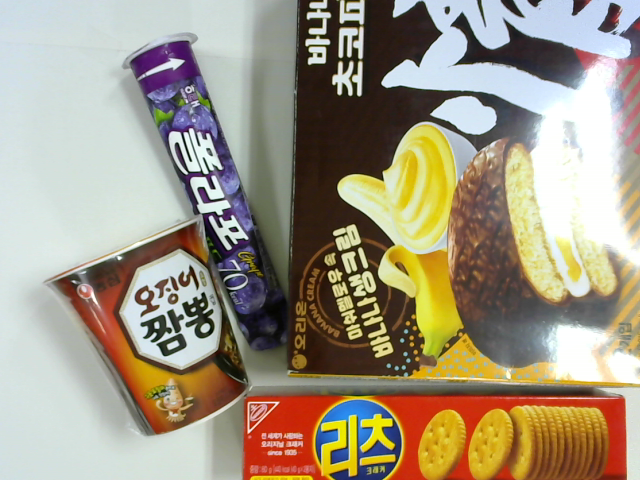Choco_Pie_Banana: (287, 1, 640, 385)
Ojjam: (44, 214, 250, 443)
Polapo_Grape: (123, 29, 297, 353)
Ritz_Cracker: (243, 386, 632, 480)
